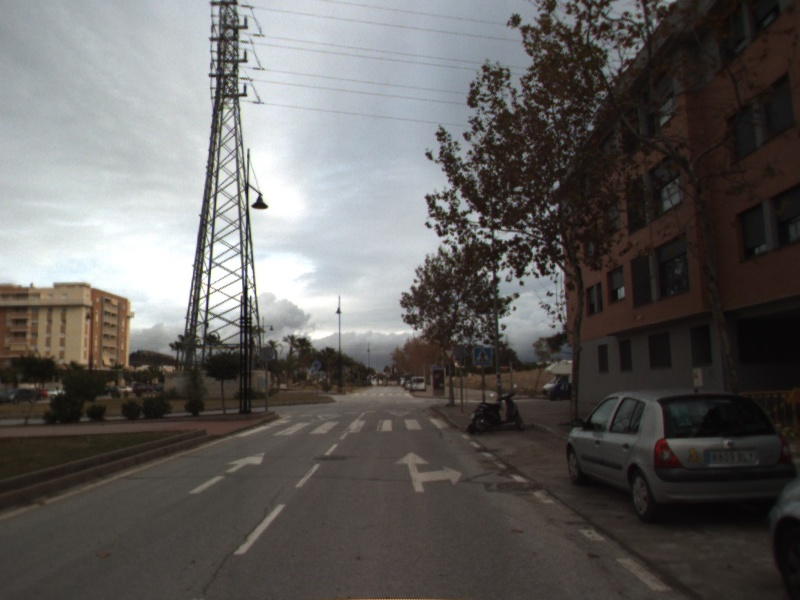STRAIGHT: (187, 450, 266, 496)
STRAIGHT_RIGHT: (393, 450, 464, 494)
